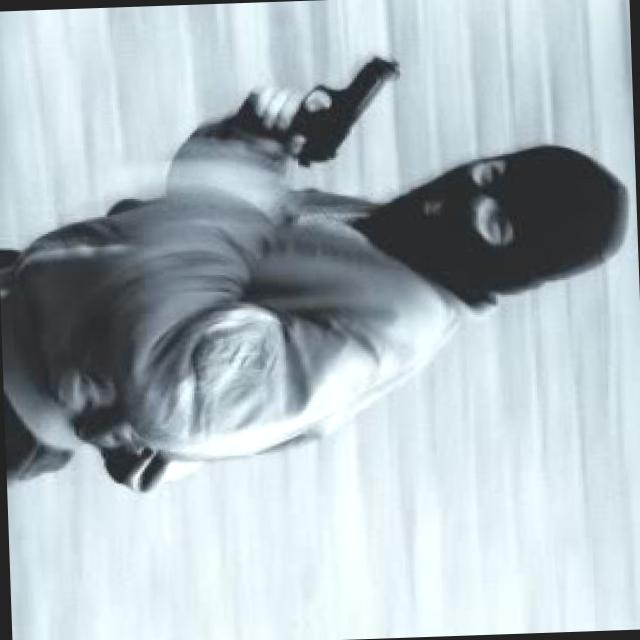handgun: (224, 52, 411, 162)
